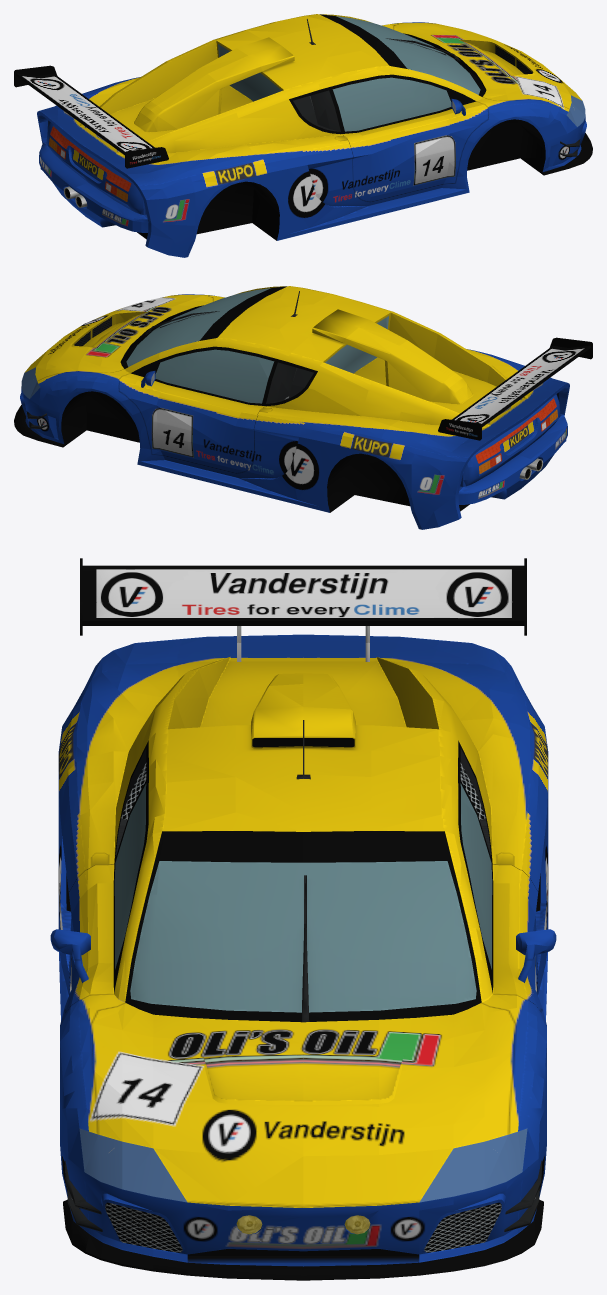
File: car.obj
3 views of the same model, one above another, from view 1: azimuth 30°, elevation 25°; view 2: azimuth 150°, elevation 25°; view 3: azimuth 270°, elevation 25° (orthographic). The views are drawn at different scales.
Visible parts, largest first — view 1: body, roof, rear_top, WI_glass, wheelwell_mat3, rw_p1, rear_p1, rbmp_p1, rubber_front_mat2.001, rbmp_p2, body_main, side_airdam (+10 smaller); view 2: body, roof, rear_top, WI_glass, wheelwell_mat3, rw_p1, rear_p1, rbmp_p1, rubber_front_mat2.001, rbmp_p2, body_main, side_airdam (+10 smaller); view 3: body, WI_glass, roof, rw_p1, fenders.002, rear_top, WI_sunshade_mat2, WI_flgt, frontwing, body_main, blackparts_mat3, rubber_front_mat2.001 (+10 smaller).
Boxes of the visible parts, box(x1,y1,x2,y2) form: body: box(39, 22, 581, 257); roof: box(79, 14, 482, 155); rear_top: box(80, 37, 294, 132); WI_glass: box(218, 16, 480, 131); wheelwell_mat3: box(196, 119, 545, 240); rw_p1: box(14, 66, 168, 168); rear_p1: box(37, 111, 151, 247); rbmp_p1: box(39, 143, 148, 222); rubber_front_mat2.001: box(289, 14, 474, 134); rbmp_p2: box(39, 153, 148, 232); body_main: box(83, 85, 252, 152); side_airdam: box(291, 154, 465, 233); body: box(25, 294, 567, 529); roof: box(124, 286, 527, 427); rear_top: box(312, 309, 526, 404); WI_glass: box(126, 288, 388, 403); wheelwell_mat3: box(61, 391, 410, 512); rw_p1: box(438, 338, 592, 440); rear_p1: box(455, 383, 569, 519); rbmp_p1: box(458, 415, 567, 494); rubber_front_mat2.001: box(131, 286, 317, 406); rbmp_p2: box(458, 425, 567, 504); body_main: box(354, 357, 523, 424); side_airdam: box(141, 426, 315, 505); body: box(58, 634, 548, 1207); WI_glass: box(114, 783, 492, 1012); roof: box(113, 657, 493, 1002); rw_p1: box(82, 565, 524, 620); fenders.002: box(60, 1137, 546, 1254); rear_top: box(168, 657, 438, 748); WI_sunshade_mat2: box(157, 832, 449, 862); WI_flgt: box(79, 1128, 527, 1202); frontwing: box(63, 1199, 543, 1280); body_main: box(200, 661, 406, 727); blackparts_mat3: box(66, 738, 540, 1255); rubber_front_mat2.001: box(113, 740, 493, 998).
Bounding box in the file's own units: 4.47 × 1.35 × 1.99.
3 materials, 3 textured.
